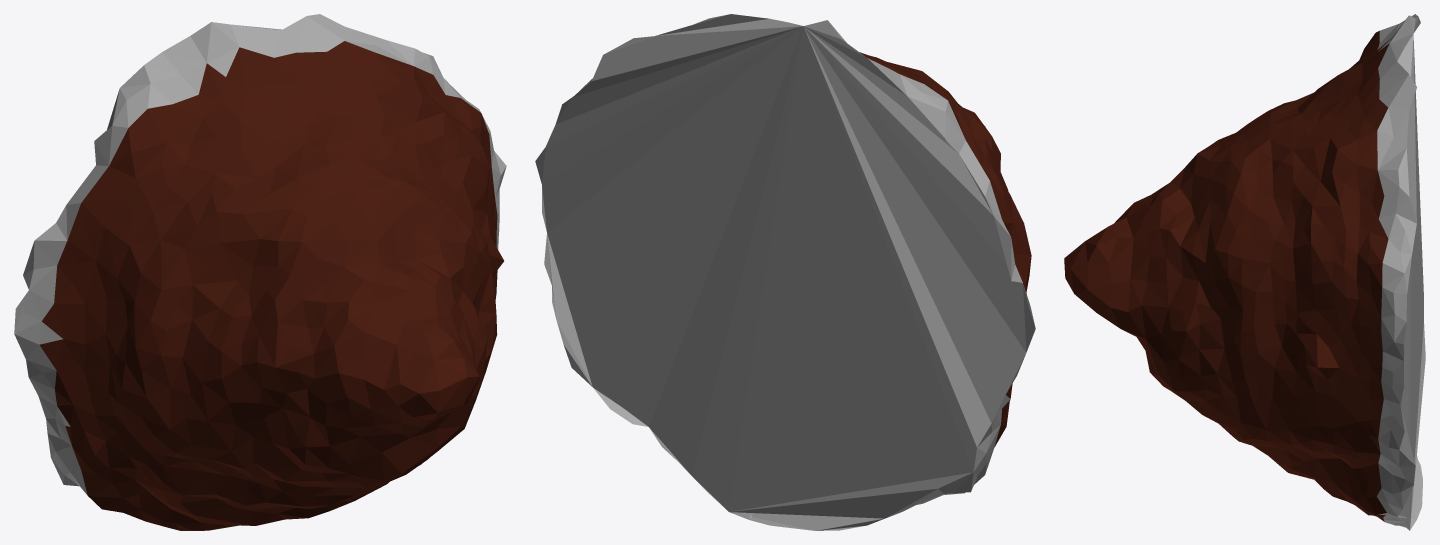
3 views of the same model, side by side, from view 1: azimuth 30°, elevation 25°; view 2: azimuth 150°, elevation 25°; view 3: azimuth 270°, elevation 25° (orthographic). The views are drawn at different scales.
Visible parts, largest first — view 1: Cone.025; view 2: Cone.025; view 3: Cone.025.
Boxes of the visible parts, x1=… form: Cone.025: x1=14, y1=14, x2=506, y2=530; Cone.025: x1=535, y1=14, x2=1035, y2=530; Cone.025: x1=1064, y1=14, x2=1425, y2=530.
Size of the model in its own units: 12.74 by 12.58 by 8.74.
